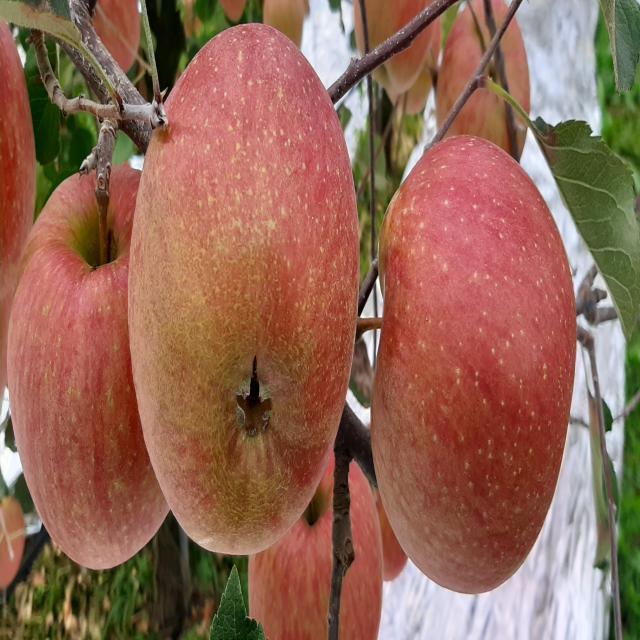fresh: (125, 15, 364, 566), (365, 127, 581, 599), (6, 151, 189, 583)
